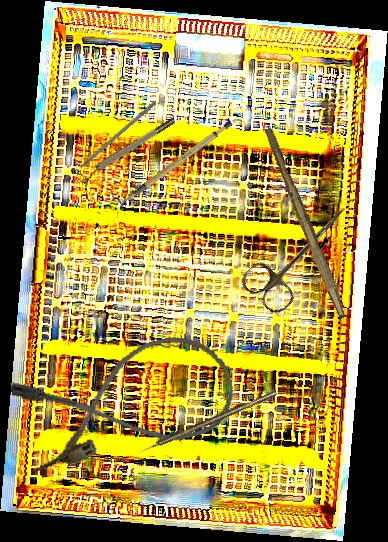Cannula: (7, 325, 243, 477)
Fixation Ring: (75, 116, 179, 186)
Hook Surgical: (137, 389, 278, 455), (66, 99, 157, 180)
Iris Scissors: (237, 188, 363, 318)
Scalpel Handle: (259, 126, 353, 320), (110, 119, 242, 204)
